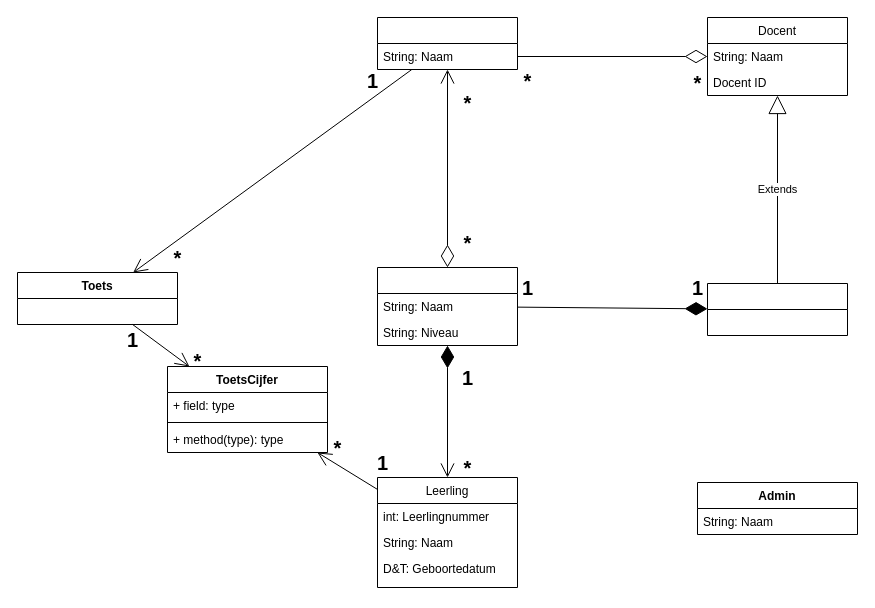
The diagram is 875 pixels wide and 608 high, and some of its shapes have lost their labels. Each missing label, with the box of its shape:
Klas: (376, 266, 518, 346)
Mentor: (706, 282, 848, 336)
Vak: (376, 16, 518, 70)
